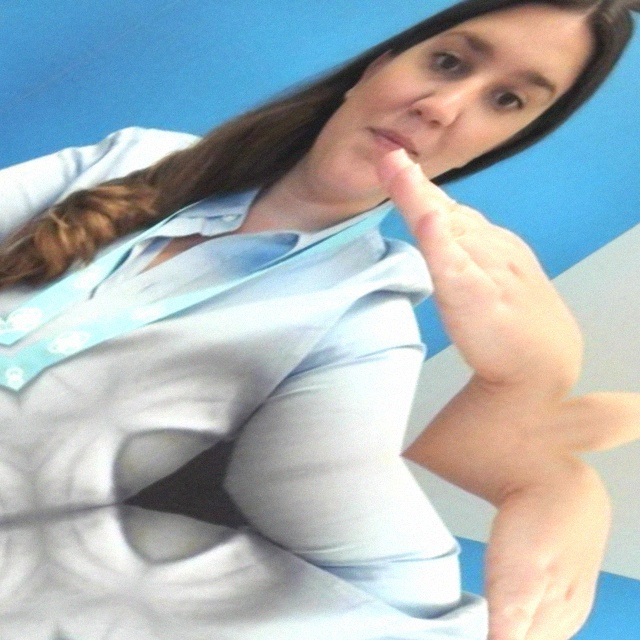Paper: (270, 104, 632, 422)
